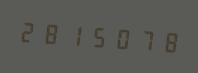eight: (40, 15, 62, 50), (155, 24, 177, 58)
five: (86, 19, 108, 53)
one: (63, 17, 85, 52)
seven: (132, 22, 154, 56)
two: (17, 14, 39, 48)
zero: (109, 20, 131, 55)
